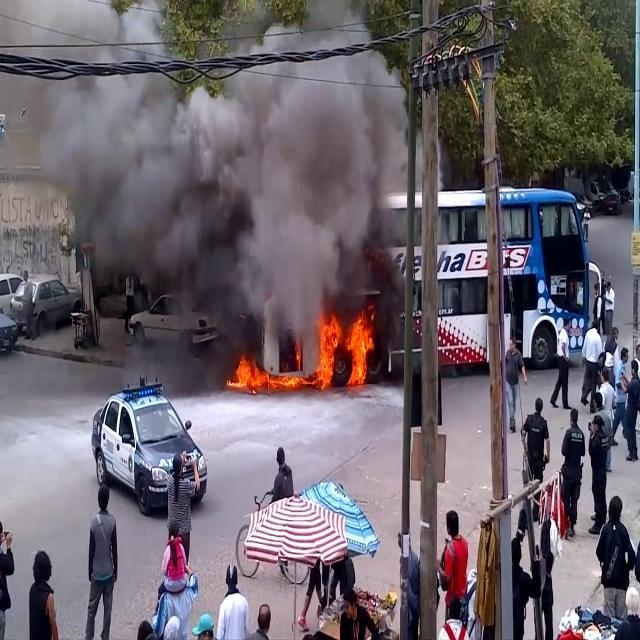Fire: (230, 306, 382, 399)
Smoke: (36, 47, 416, 309)
